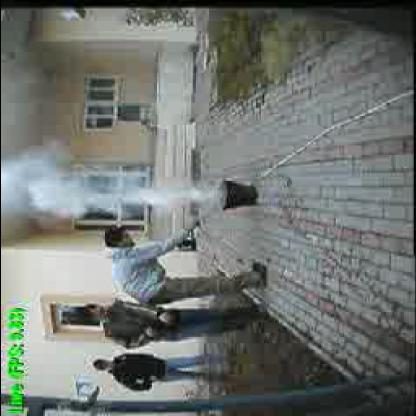Smoke: (1, 164, 211, 221)
